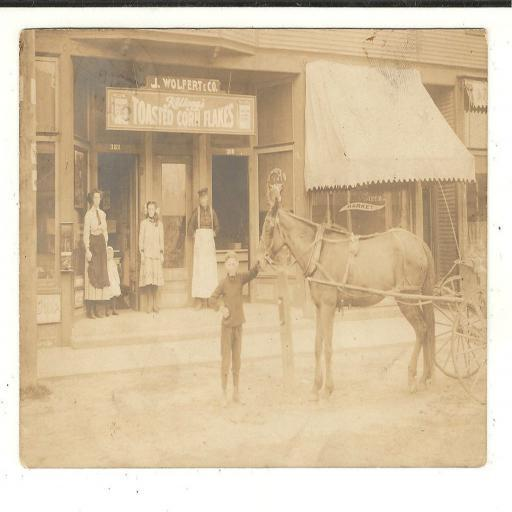horse: (252, 196, 436, 404)
